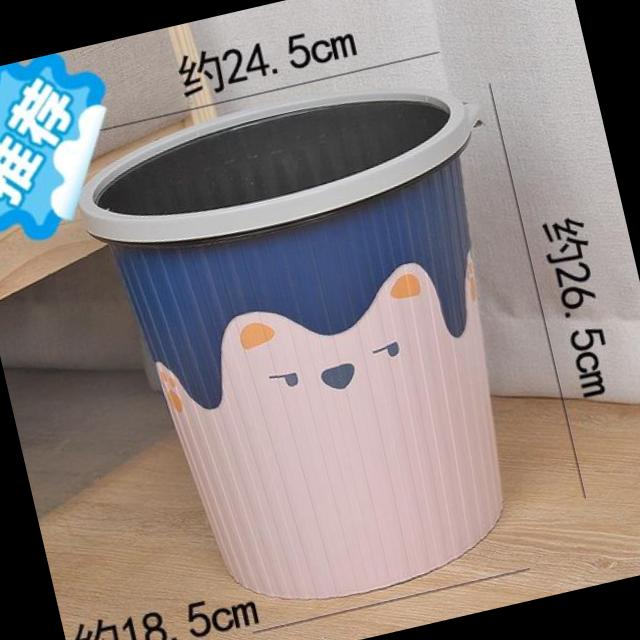dustbin: (52, 62, 581, 640)
